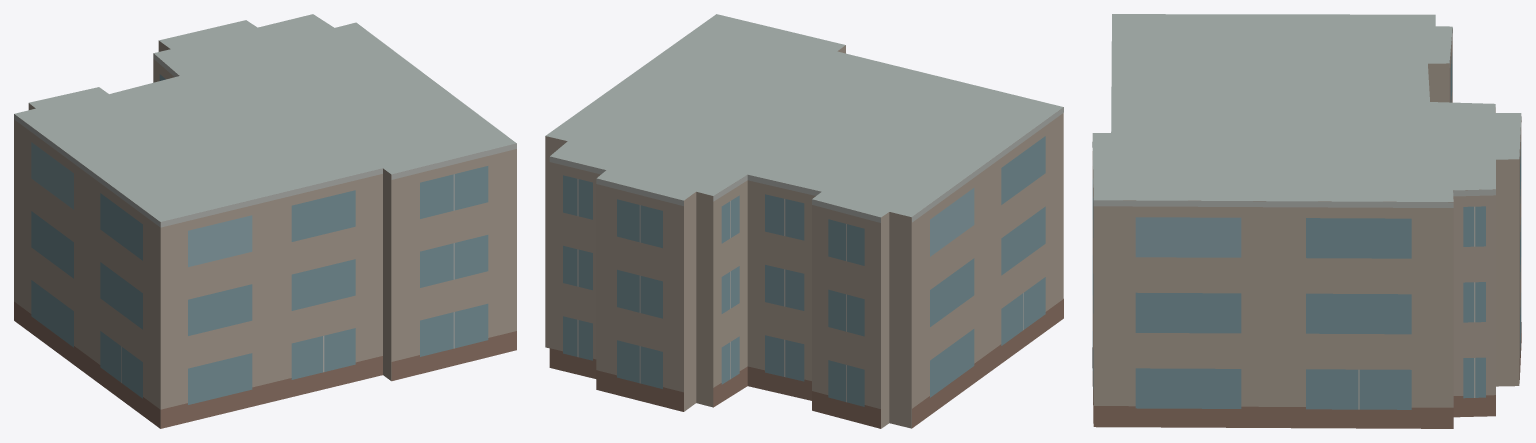
The model's file is survey-upis-32690025.glb.
3 renders of one model, left to right at view 1: azimuth 30°, elevation 25°; view 2: azimuth 150°, elevation 25°; view 3: azimuth 270°, elevation 25°, orthographic. The views are drawn at different scales.
Visible parts, largest first — view 1: survey-upis-32690025.tmp; view 2: survey-upis-32690025.tmp; view 3: survey-upis-32690025.tmp.
Part boxes in pixels (box(x1,y1,x2,y2)): survey-upis-32690025.tmp: box(14, 14, 516, 428); survey-upis-32690025.tmp: box(545, 14, 1063, 428); survey-upis-32690025.tmp: box(1092, 14, 1521, 428).
Size of the model in its own units: 16.28 by 9.15 by 15.7.
